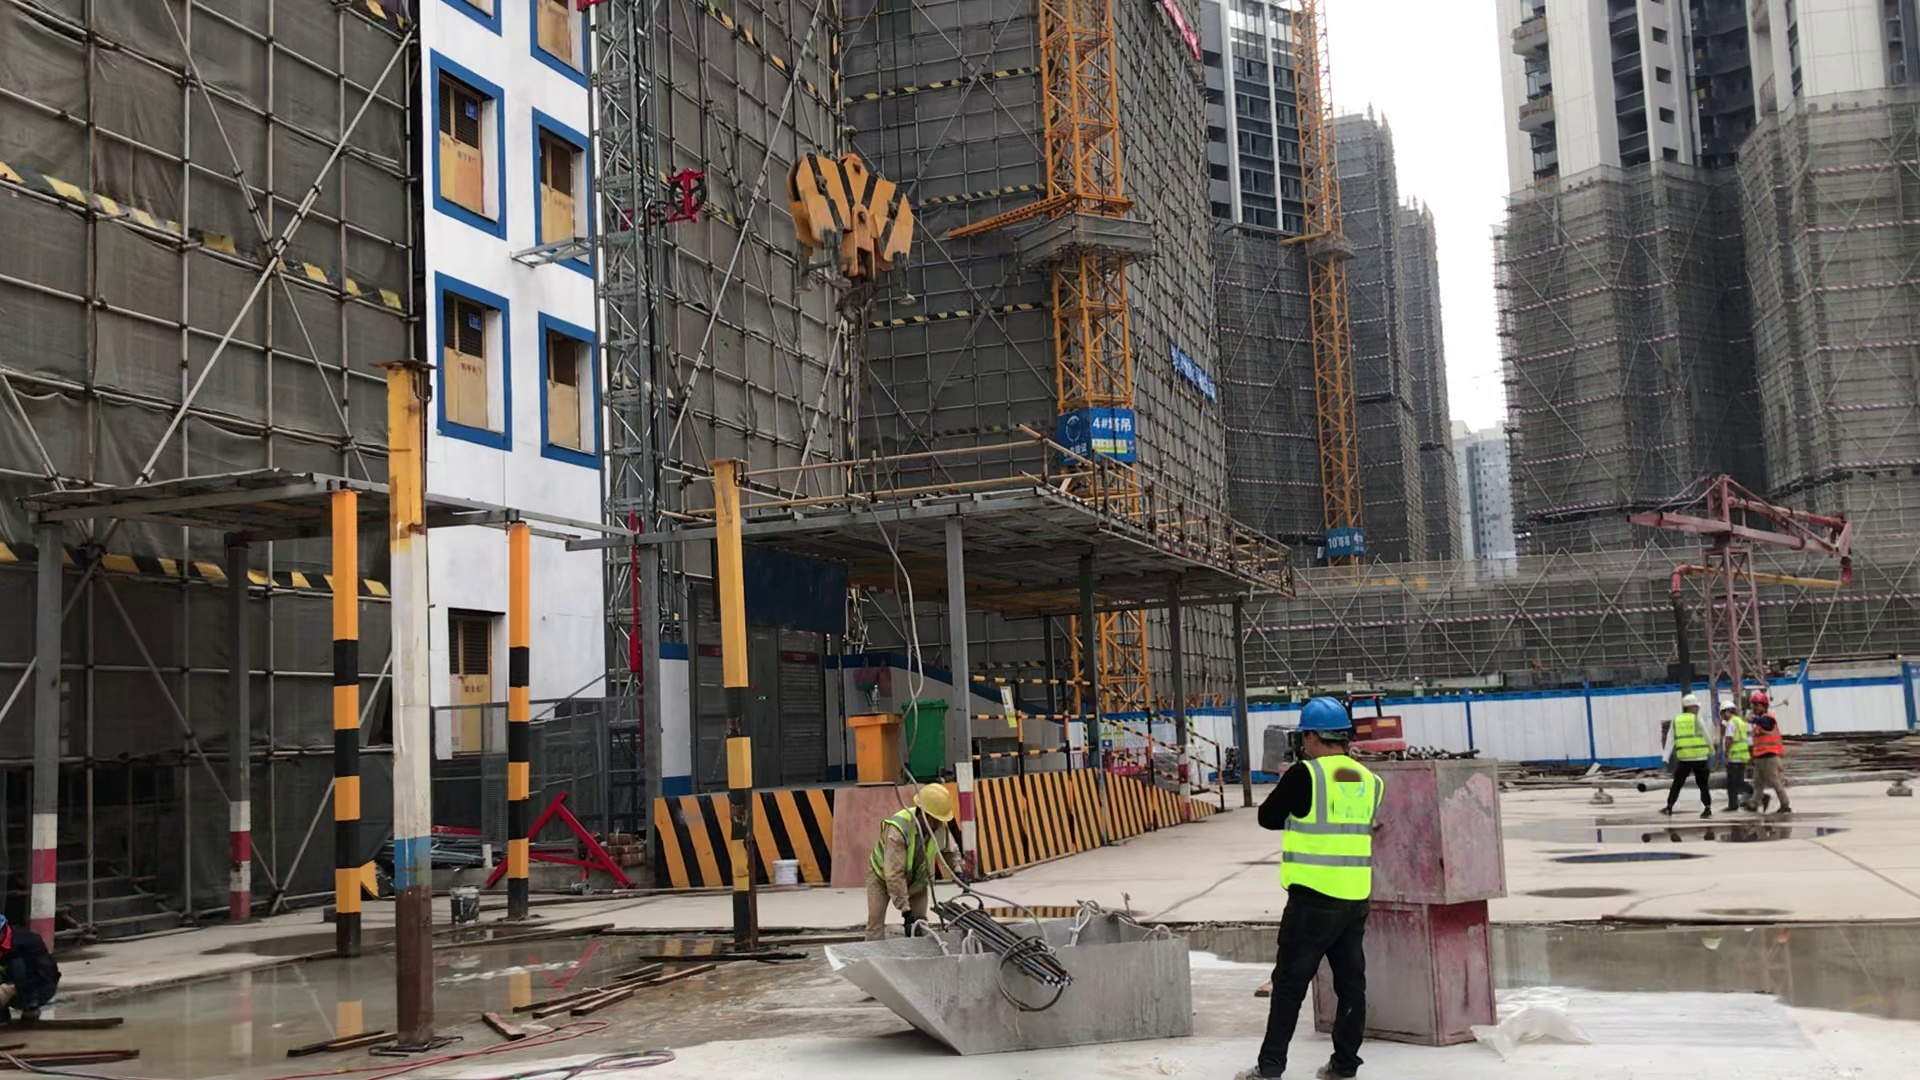fence: (964, 669, 1240, 816)
helmet: (1292, 693, 1362, 738), (908, 782, 965, 823), (1747, 689, 1773, 712), (1675, 691, 1704, 709), (1716, 697, 1740, 715)
hook: (764, 130, 927, 335)
hopper: (799, 901, 1222, 1062)
person: (1238, 679, 1391, 1080), (851, 770, 989, 938), (1646, 684, 1716, 831), (1740, 683, 1798, 835), (1716, 697, 1754, 814)
rebar: (933, 899, 1092, 995)
slogan: (1030, 397, 1140, 497), (1135, 335, 1230, 416), (1140, 1, 1215, 62), (1311, 518, 1372, 574)
vest: (1267, 754, 1391, 919), (862, 809, 947, 904), (1662, 712, 1710, 762), (1748, 709, 1786, 760), (1720, 715, 1750, 766)
